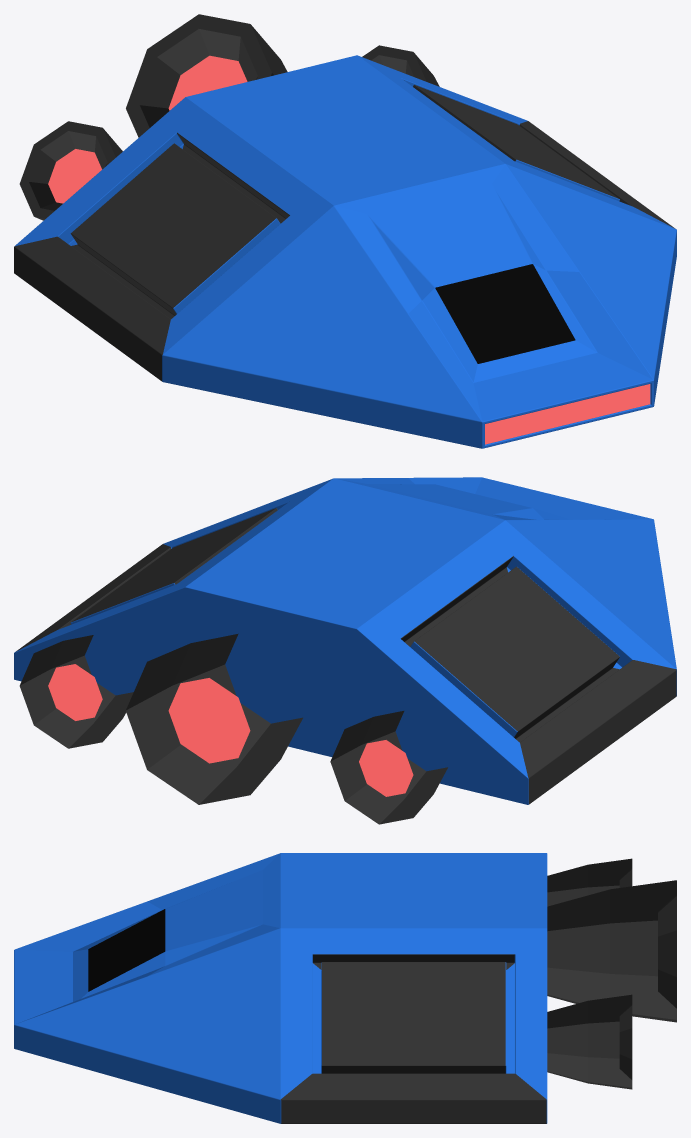
The model's file is spaceship3.gltf.
3 views of the same model, one above another, from view 1: azimuth 30°, elevation 25°; view 2: azimuth 150°, elevation 25°; view 3: azimuth 270°, elevation 25° (orthographic). The views are drawn at different scales.
Parts seen in each view (by area): view 1: Plane.001, Plane.003, Plane.002, Circle.002, Circle, Plane.004, Circle.003, Circle.005, Circle.001; view 2: Plane.001, Plane.003, Circle.002, Circle, Circle.001, Circle.003, Circle.004, Circle.005; view 3: Plane.001, Plane.003, Circle.002, Circle.001, Plane.002, Circle.
Boxes of the visible parts, x1,y1,x2,y2 form: Plane.001: (14,55,676,448); Plane.003: (14,84,675,381); Plane.002: (435,264,575,363); Circle.002: (126,14,287,137); Circle: (19,121,122,220); Plane.004: (485,384,650,444); Circle.003: (168,55,247,110); Circle.005: (48,149,101,203); Circle.001: (362,45,439,86); Plane.001: (14,477,676,804); Plane.003: (16,508,676,804); Circle.002: (125,633,302,804); Circle: (330,711,447,824); Circle.001: (19,635,133,748); Circle.003: (168,678,250,763); Circle.004: (48,664,102,720); Circle.005: (359,740,413,796); Plane.001: (14,853,547,1123); Plane.003: (280,954,546,1123); Circle.002: (547,880,676,1022); Circle.001: (547,994,632,1089); Plane.002: (88,909,165,991); Circle: (547,858,632,906).
Bounding box in the file's own units: 3 × 0.8524 × 3.73.
